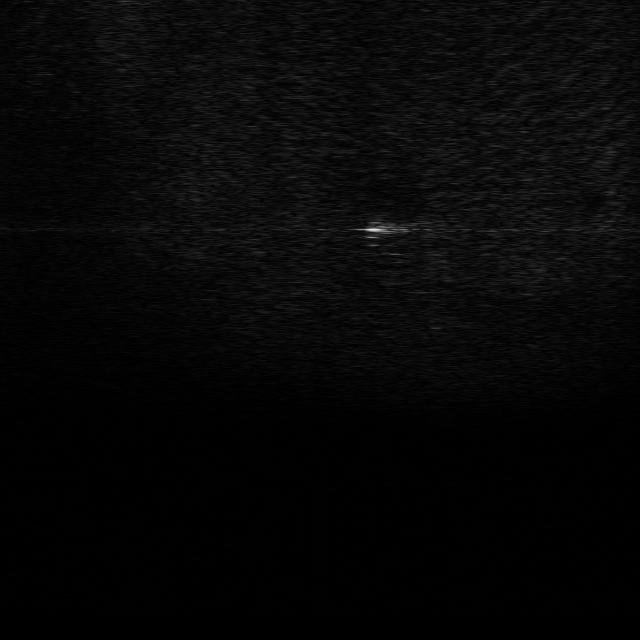plane: (360, 212, 418, 246)
